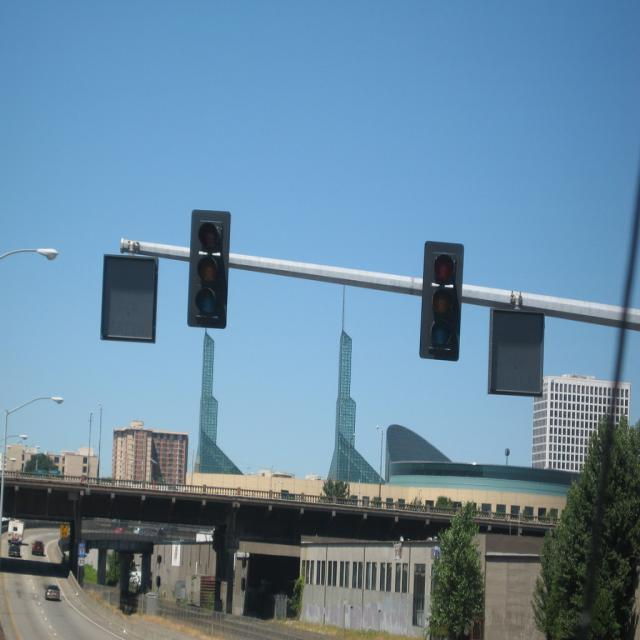traffic light: (421, 239, 463, 360), (186, 208, 227, 327)
